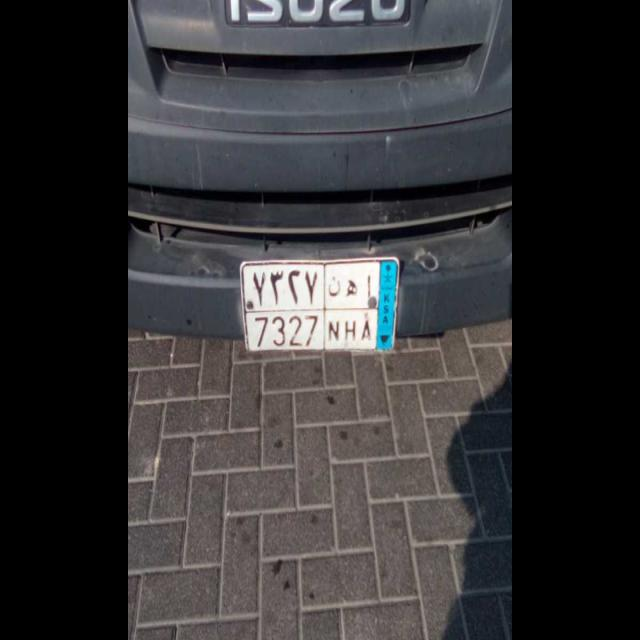license_plate: (248, 307, 378, 352)
